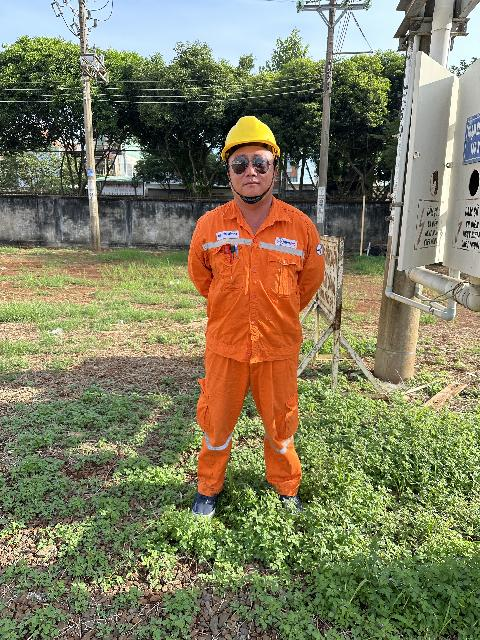helmet: (211, 111, 287, 154)
shoes: (190, 481, 224, 527), (274, 483, 310, 516)
